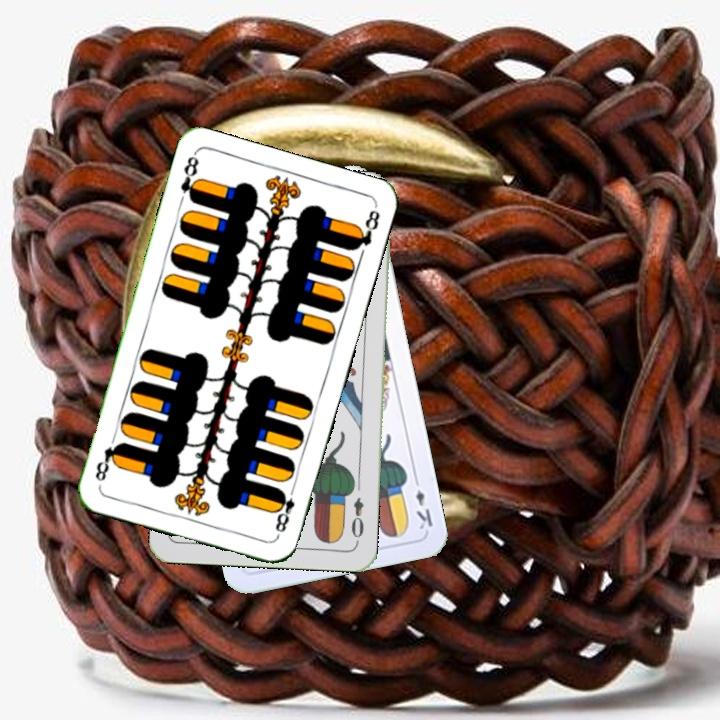E8: (270, 481, 298, 539), (176, 150, 203, 205)
EK: (410, 473, 436, 532)
EO: (347, 493, 367, 546)
